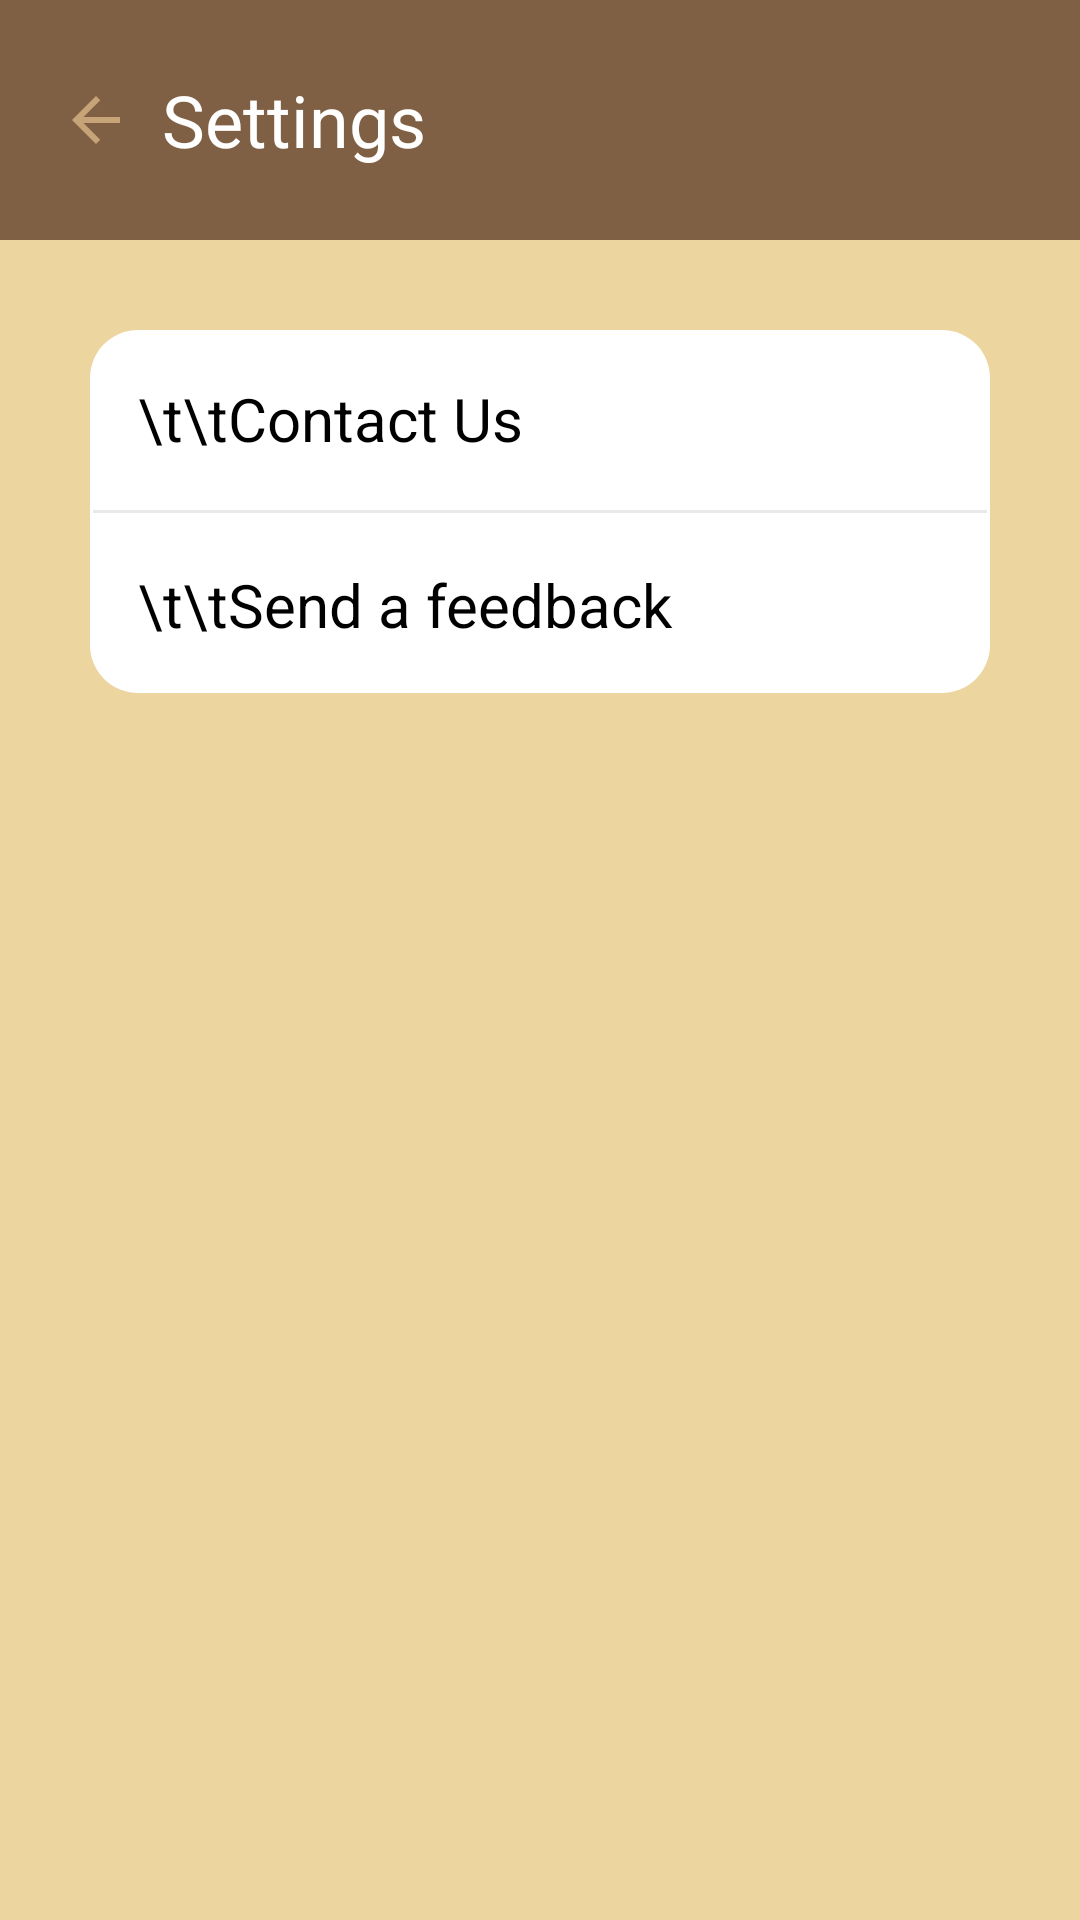

Screen size 1080px x 1920px. Icon name, then its center in pixels as point (x, y):
Back: point (96, 120)
